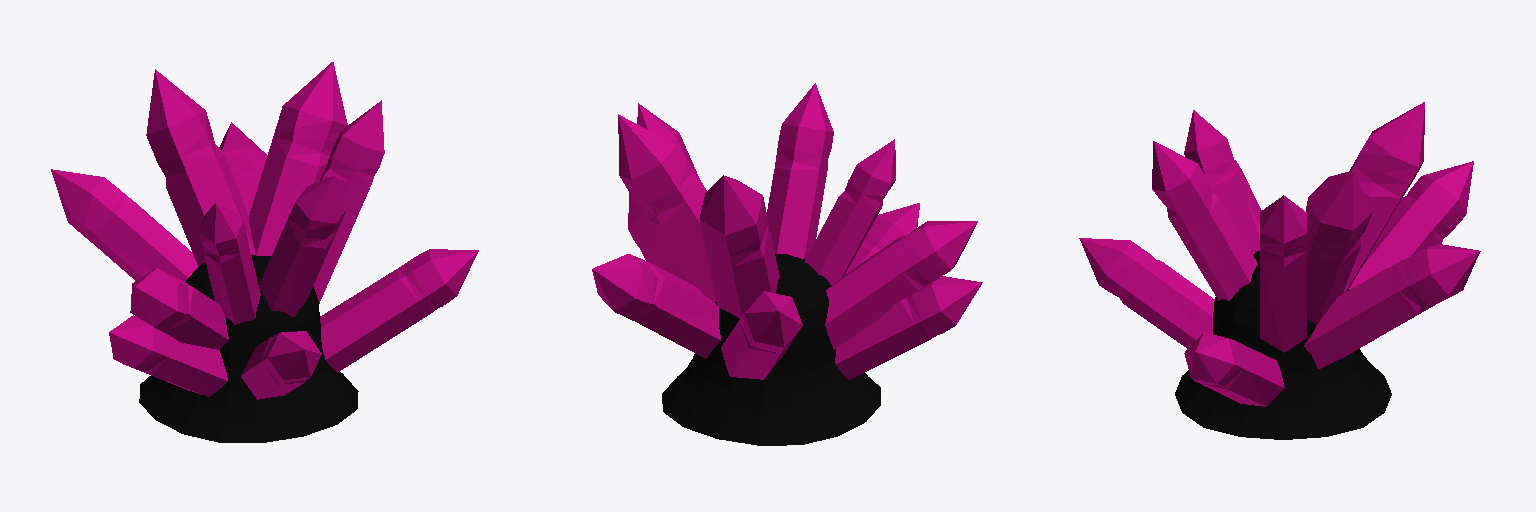
Rendered from Mineral.obj.
3 views of the same model, side by side, from view 1: azimuth 30°, elevation 25°; view 2: azimuth 150°, elevation 25°; view 3: azimuth 270°, elevation 25° (orthographic).
Visible parts, largest first — view 1: Mineral_Cube.024; view 2: Mineral_Cube.024; view 3: Mineral_Cube.024.
Part boxes in pixels (x1,y1,x2,y2): Mineral_Cube.024: (51,62,478,442); Mineral_Cube.024: (592,83,982,445); Mineral_Cube.024: (1079,102,1480,439).
Bounding box in the file's own units: 0.5876 × 0.4367 × 0.5644.